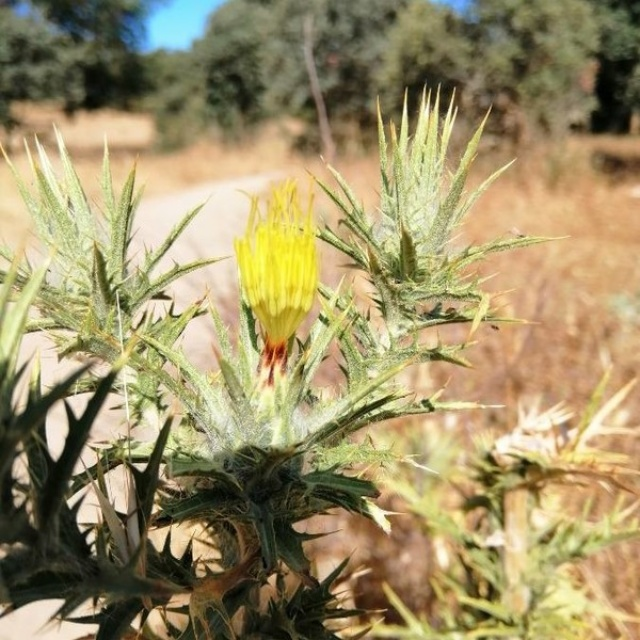obstacle: (90, 147, 422, 590)
